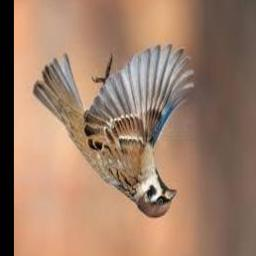Sparrow: (33, 45, 193, 218)
